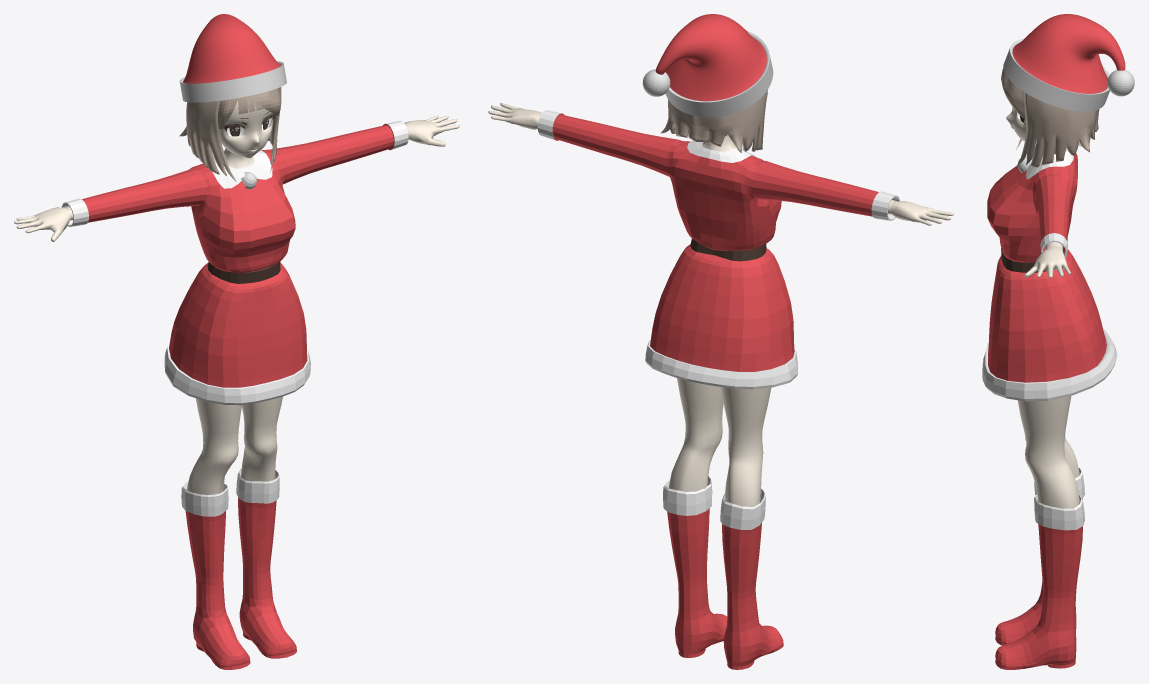
3 renders of one model, left to right at view 1: azimuth 30°, elevation 25°; view 2: azimuth 150°, elevation 25°; view 3: azimuth 270°, elevation 25°, orthographic. The views are drawn at different scales.
Parts seen in each view (by area): view 1: Cylinder.001, Cylinder.002, wwwwwwwwwwww, santa, Cylinder, Cube.002, Face, Cube.005, Plane.001, Belt; view 2: Cylinder.001, Cylinder.002, wwwwwwwwwwww, santa, Cylinder, Cube.002, Cube.005, Belt; view 3: Cylinder.002, wwwwwwwwwwww, santa, Cylinder.001, Cylinder, Cube.002, Cube.005, Sphere, Plane.001, Face, Belt.
Part boxes in pixels (x1,y1,x2,y2): Cylinder.001: [61, 121, 408, 273]; Cylinder.002: [164, 262, 310, 405]; wwwwwwwwwwww: [181, 469, 296, 669]; santa: [179, 14, 286, 102]; Cylinder: [66, 206, 282, 494]; Cube.002: [179, 87, 281, 181]; Face: [219, 100, 275, 168]; Cube.005: [14, 115, 459, 241]; Plane.001: [218, 88, 280, 128]; Belt: [207, 262, 280, 283]; Cylinder.001: [537, 110, 899, 250]; Cylinder.002: [645, 244, 797, 389]; wwwwwwwwwwww: [663, 476, 783, 669]; santa: [655, 14, 773, 117]; Cylinder: [669, 200, 896, 506]; Cube.002: [660, 90, 767, 152]; Cube.005: [488, 103, 953, 225]; Belt: [690, 238, 766, 261]; Cylinder.002: [982, 249, 1117, 401]; wwwwwwwwwwww: [995, 468, 1084, 669]; santa: [1003, 14, 1125, 111]; Cylinder.001: [987, 146, 1077, 262]; Cylinder: [1017, 242, 1079, 508]; Cube.002: [1016, 92, 1099, 167]; Cube.005: [1024, 246, 1070, 278]; Sphere: [1107, 70, 1134, 96]; Plane.001: [1001, 68, 1025, 118]; Face: [1006, 106, 1067, 157]; Belt: [1001, 248, 1047, 272].
Size of the model in its own units: 1.19 by 1.59 by 0.3463.
